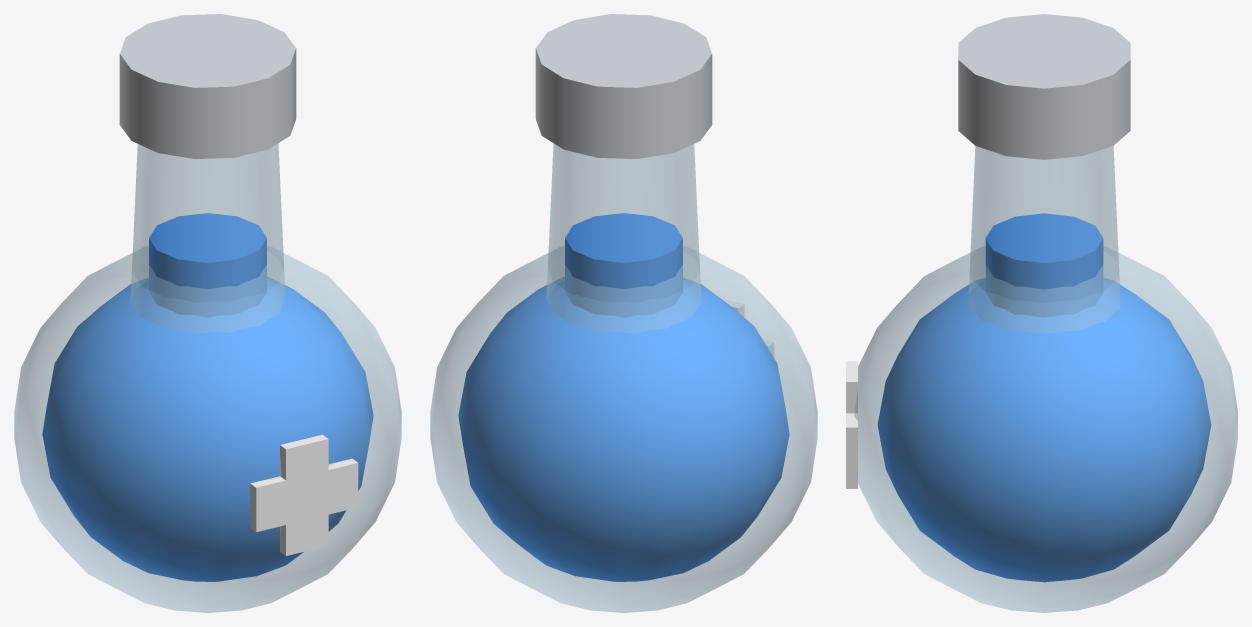
The model's file is ShieldPotion.obj.
The picture shows the model from 3 angles, left to right: view 1: azimuth 30°, elevation 25°; view 2: azimuth 150°, elevation 25°; view 3: azimuth 270°, elevation 25°; orthographic projection.
Visible parts, largest first — view 1: Bottle, Liquid, Cap, Label; view 2: Bottle, Liquid, Cap; view 3: Bottle, Liquid, Cap, Label.
Part boxes in pixels (box(x1,y1,x2,y2)): Bottle: box(14, 144, 401, 612); Liquid: box(42, 213, 373, 581); Cap: box(119, 14, 296, 158); Label: box(250, 434, 358, 555); Bottle: box(430, 144, 817, 612); Liquid: box(458, 213, 789, 581); Cap: box(535, 14, 712, 158); Bottle: box(854, 146, 1237, 612); Liquid: box(877, 213, 1211, 582); Cap: box(958, 14, 1130, 159); Label: box(846, 361, 857, 488).
Size of the model in its own units: 0.2 by 0.305 by 0.1995.
